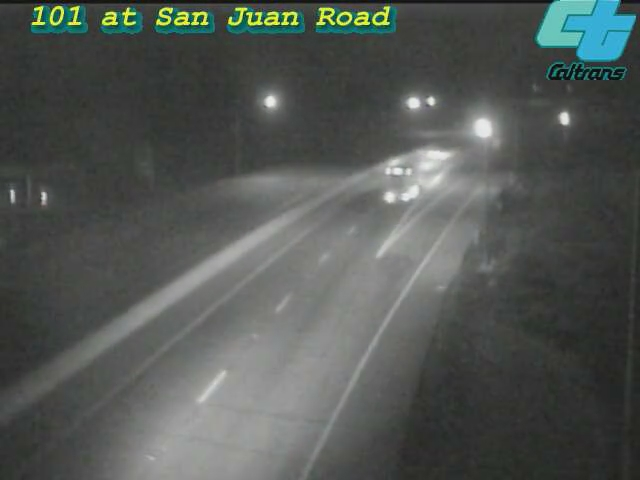vehicle: (372, 123, 452, 203), (359, 148, 439, 228), (462, 103, 512, 153), (538, 93, 588, 143), (409, 130, 459, 180)
